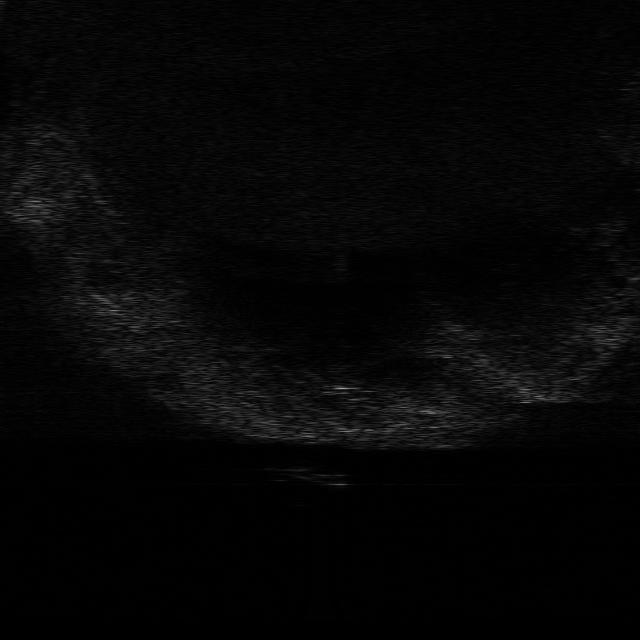plane: (265, 463, 355, 489)
